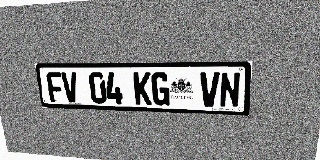0: (88, 72, 107, 104)
4: (105, 72, 123, 104)
F: (46, 72, 64, 102)
G: (151, 72, 170, 106)
K: (133, 72, 152, 105)
N: (219, 72, 241, 108)
V: (200, 72, 220, 107), (61, 72, 79, 103)
